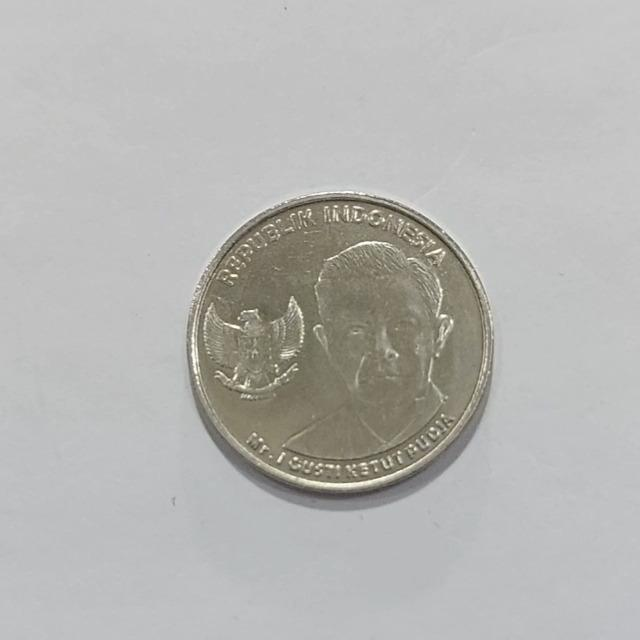Rp100: (185, 189, 495, 497), (275, 237, 457, 464), (200, 292, 306, 401)
